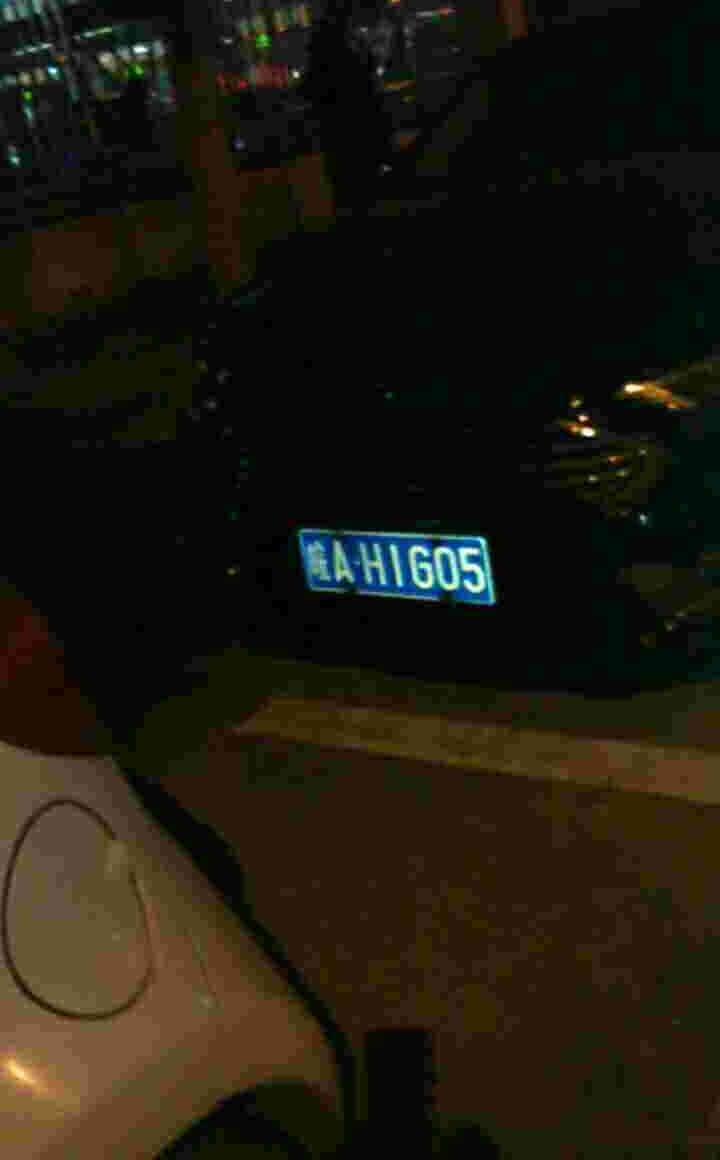license_plate: (304, 524, 498, 608)
